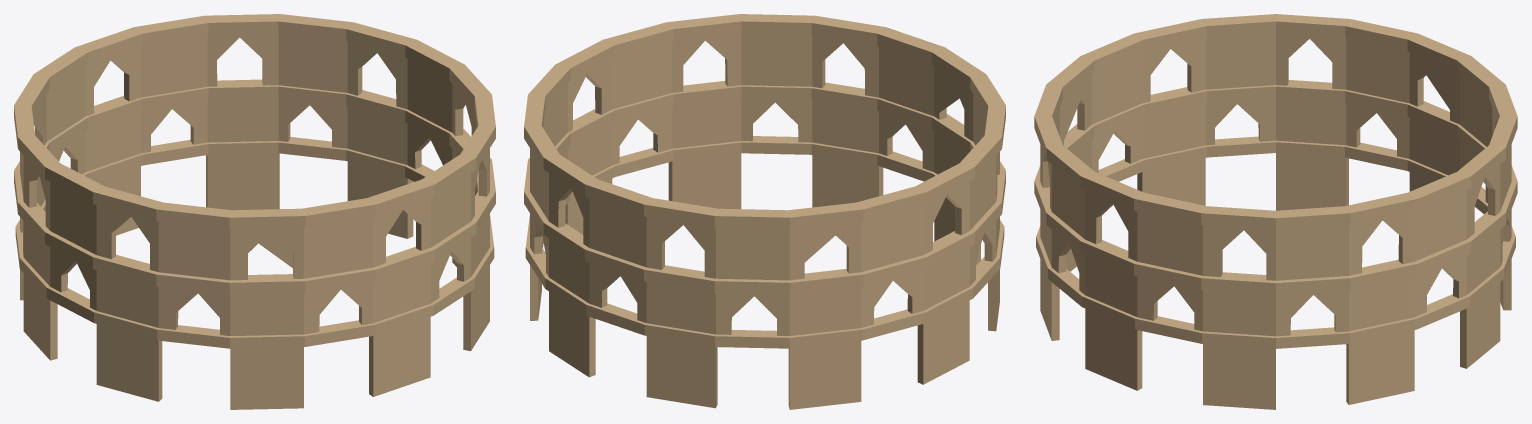
File: Coliseo.fbx
The picture shows the model from 3 angles, left to right: view 1: azimuth 30°, elevation 25°; view 2: azimuth 150°, elevation 25°; view 3: azimuth 270°, elevation 25°; orthographic projection.
Visible parts, largest first — view 1: pasted__group1_pasted__pCylinder18; view 2: pasted__group1_pasted__pCylinder18; view 3: pasted__group1_pasted__pCylinder18.
Boxes of the visible parts, x1=… form: pasted__group1_pasted__pCylinder18: x1=14, y1=14, x2=495, y2=409; pasted__group1_pasted__pCylinder18: x1=524, y1=14, x2=1005, y2=409; pasted__group1_pasted__pCylinder18: x1=1034, y1=14, x2=1517, y2=409.
Size of the model in its own units: 923 by 409 by 923.
